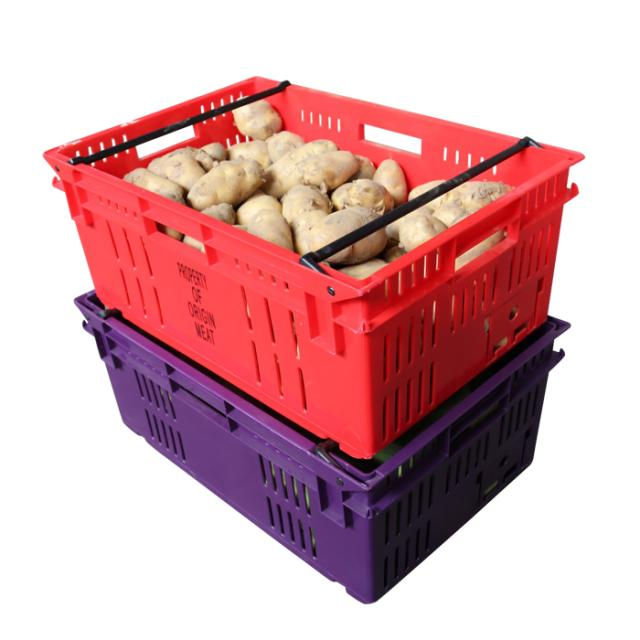basket: (0, 33, 588, 494), (59, 291, 572, 615), (257, 79, 519, 209)
